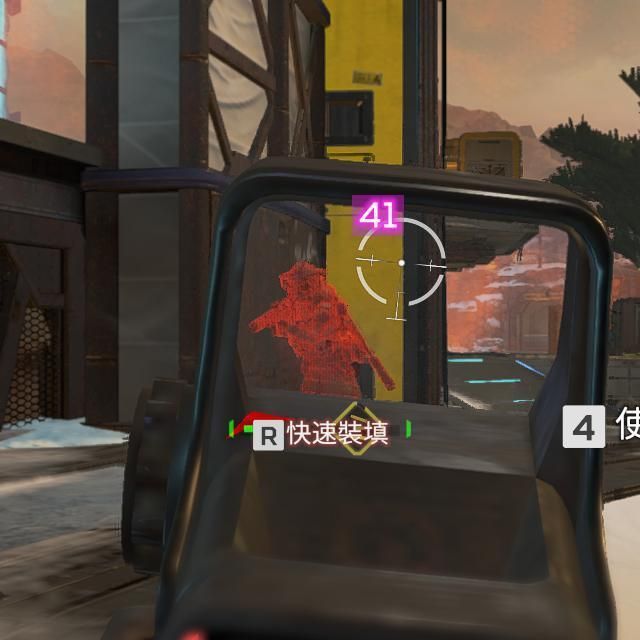avatar: (248, 257, 372, 398)
